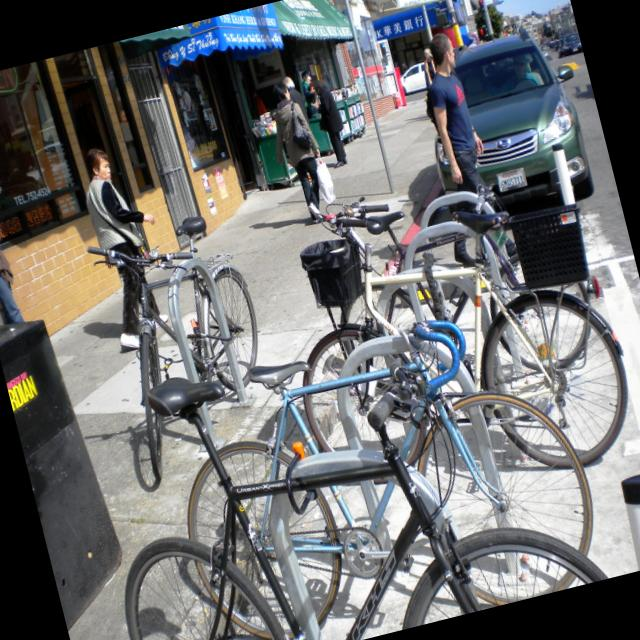bike: (71, 285, 610, 640), (152, 288, 610, 640), (260, 149, 640, 527), (82, 206, 286, 482)
